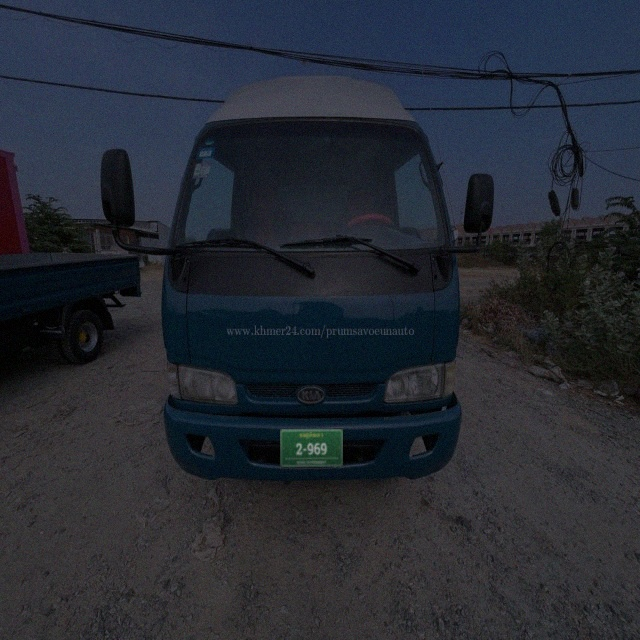Plate Number: (280, 430, 343, 467)
